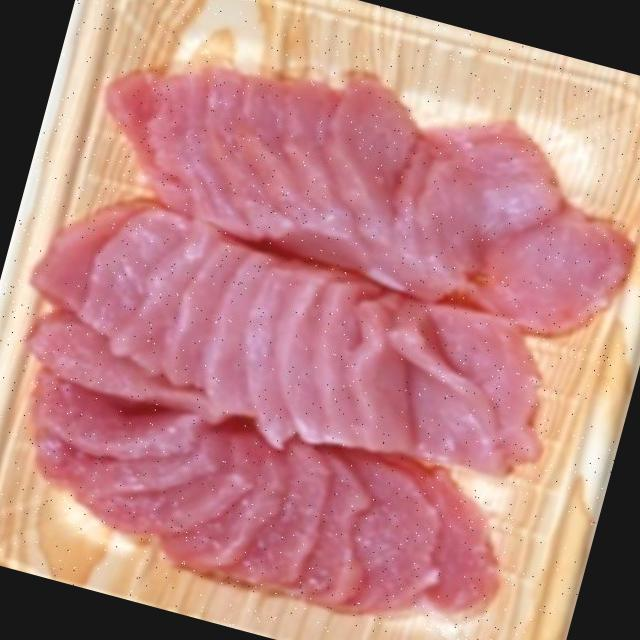pork: (23, 71, 629, 616)
